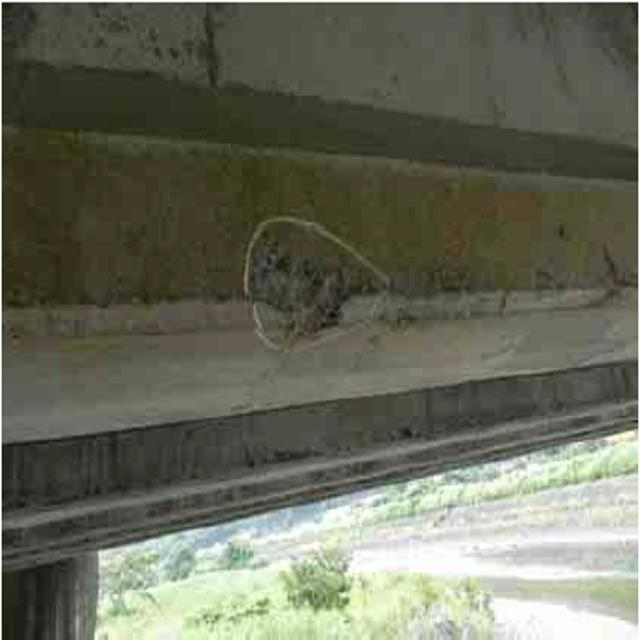spalling: (230, 224, 381, 354)
